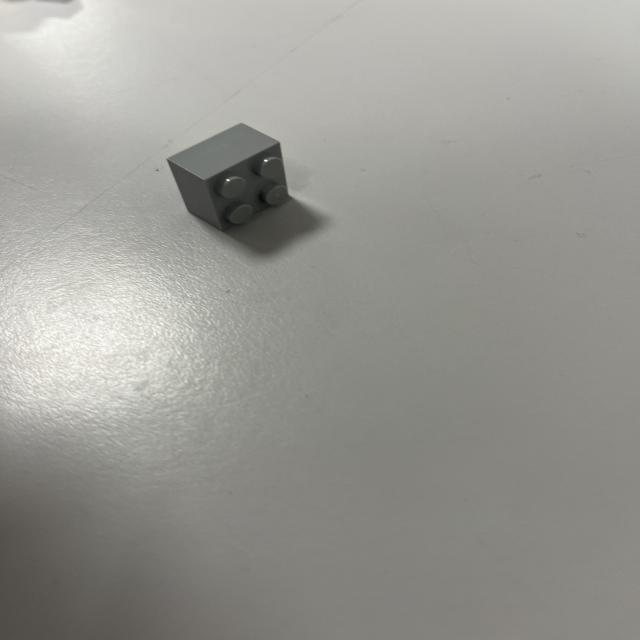C2x2x1: (169, 121, 292, 234)
